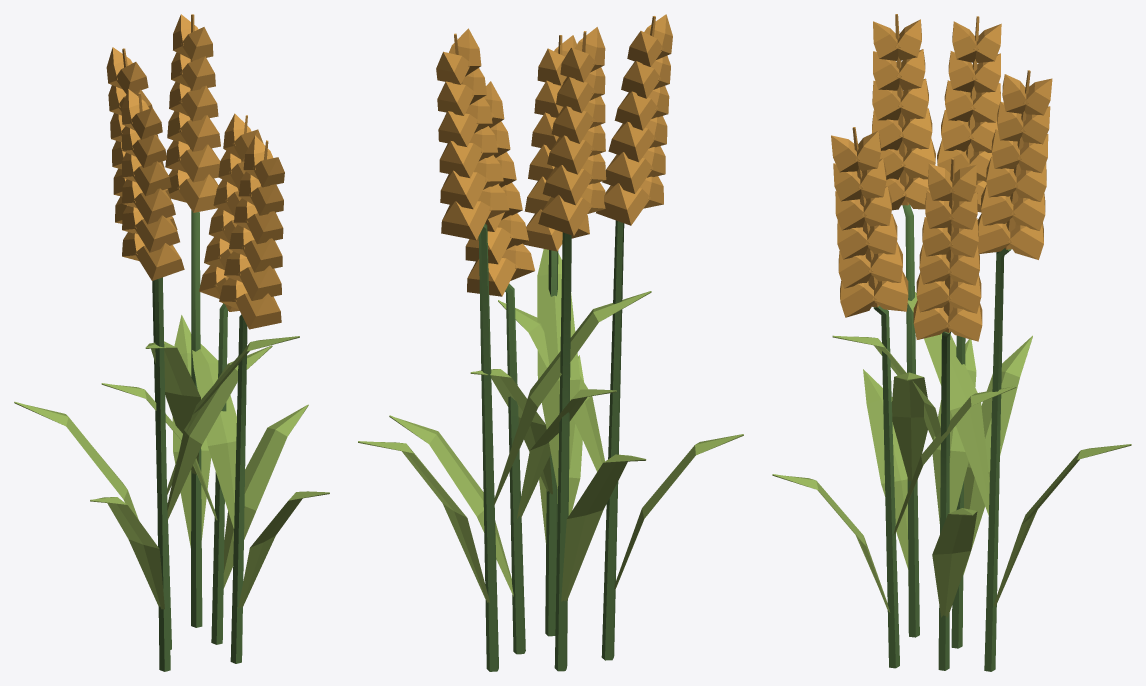
File: crop_wheat_mature.glb
3 renders of one model, left to right at view 1: azimuth 30°, elevation 25°; view 2: azimuth 150°, elevation 25°; view 3: azimuth 270°, elevation 25°, orthographic. The views are drawn at different scales.
Visible parts, largest first — view 1: wheat_head_0_grain, wheat_leaf_0_0, wheat_stalk_0; view 2: wheat_head_0_grain, wheat_leaf_0_0, wheat_stalk_0; view 3: wheat_head_0_grain, wheat_leaf_0_0, wheat_stalk_0.
Boxes of the visible parts, x1,y1,x2,y2 form: wheat_head_0_grain: (106, 14, 284, 329); wheat_leaf_0_0: (14, 315, 329, 609); wheat_stalk_0: (152, 210, 247, 671); wheat_head_0_grain: (436, 14, 672, 296); wheat_leaf_0_0: (358, 249, 743, 602); wheat_stalk_0: (478, 220, 624, 671); wheat_head_0_grain: (831, 14, 1052, 341); wheat_leaf_0_0: (772, 292, 1131, 617); wheat_stalk_0: (873, 204, 1011, 671).
Size of the model in its own units: 0.6273 by 1.32 by 0.7022.
